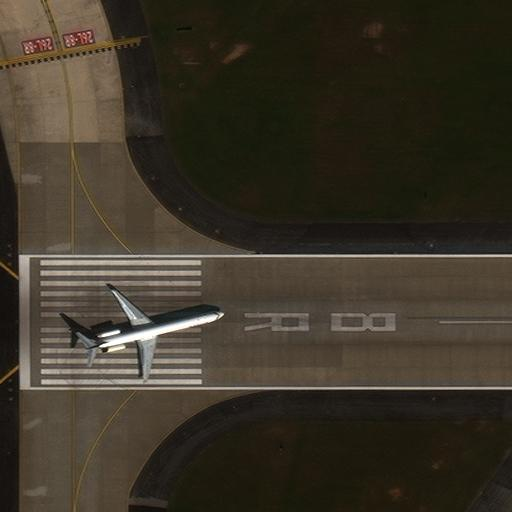Medium Civil Transport: (87, 288, 224, 378)
